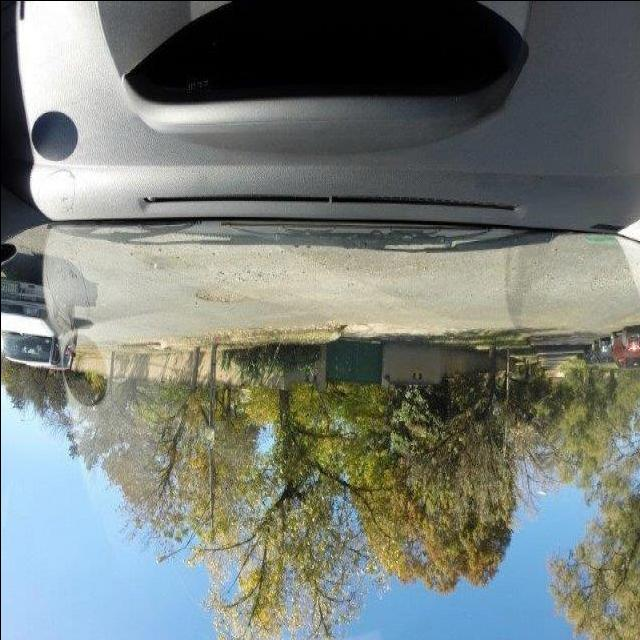lubang: (189, 280, 250, 312)
